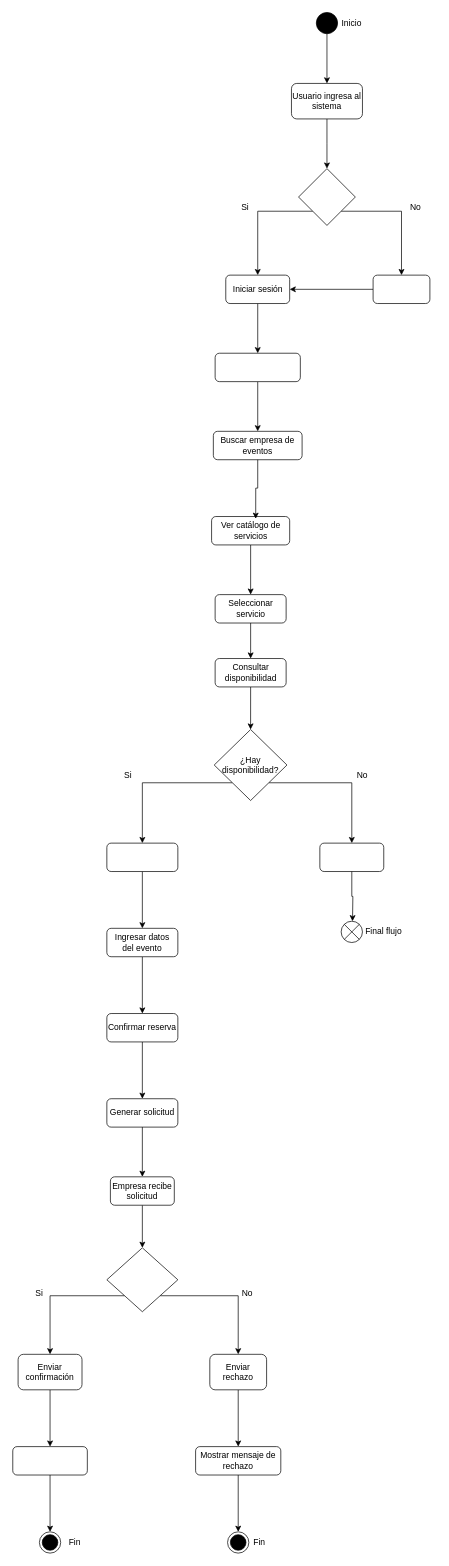
Image size: 449x1566. Some labels were removed from this diagram. Here are the shapes that lost their labels. From the top down, the box of each, then its label:
(298, 168, 355, 225): ¿Tiene cuenta?
(372, 274, 430, 304): Registrarse
(214, 353, 300, 382): Acceder al sistema
(106, 842, 178, 872): Solicitar reserva
(319, 842, 384, 872): Mostrar mensaje
(106, 1247, 178, 1312): ¿Aprueba la solicitud?
(12, 1446, 87, 1475): Mostrar reserva confirmada
